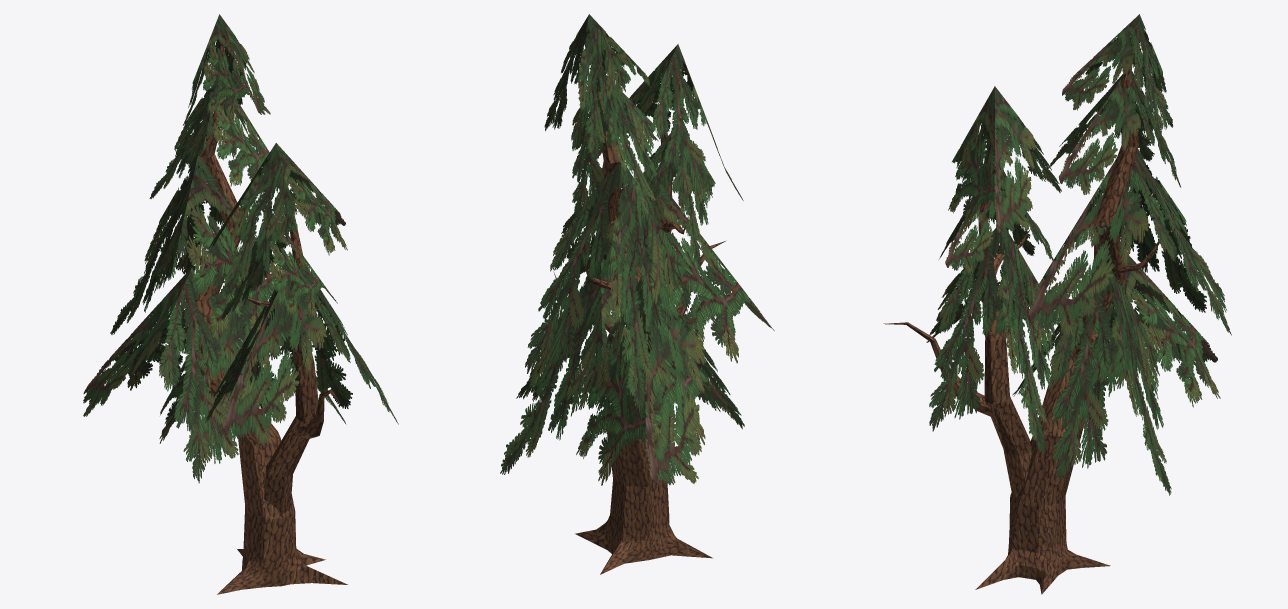
The model's file is Pine_small03.fbx.
3 views of the same model, side by side, from view 1: azimuth 30°, elevation 25°; view 2: azimuth 150°, elevation 25°; view 3: azimuth 270°, elevation 25° (orthographic). The views are drawn at different scales.
Visible parts, largest first — view 1: Tree_small03; view 2: Tree_small03; view 3: Tree_small03.
Part boxes in pixels (x1,y1,x2,y2): Tree_small03: (83, 14, 398, 594); Tree_small03: (500, 14, 774, 574); Tree_small03: (883, 14, 1231, 594).
Size of the model in its own units: 4.7 by 7.67 by 5.35.
Materials: 2 (2 with a texture image).
